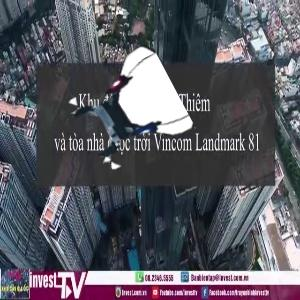drone: (73, 59, 182, 168)
